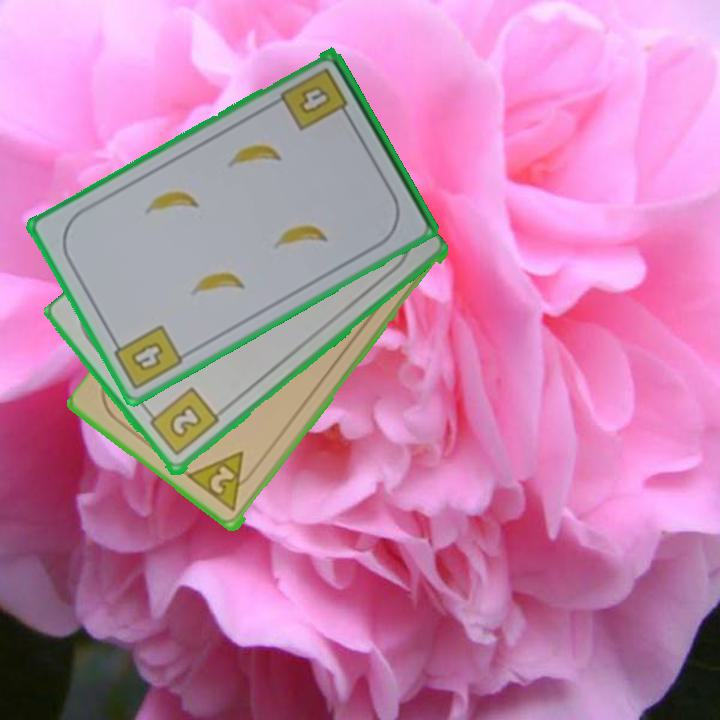2b: (142, 384, 222, 459)
2p: (185, 448, 260, 515)
4b: (107, 321, 186, 393), (277, 64, 354, 134)
